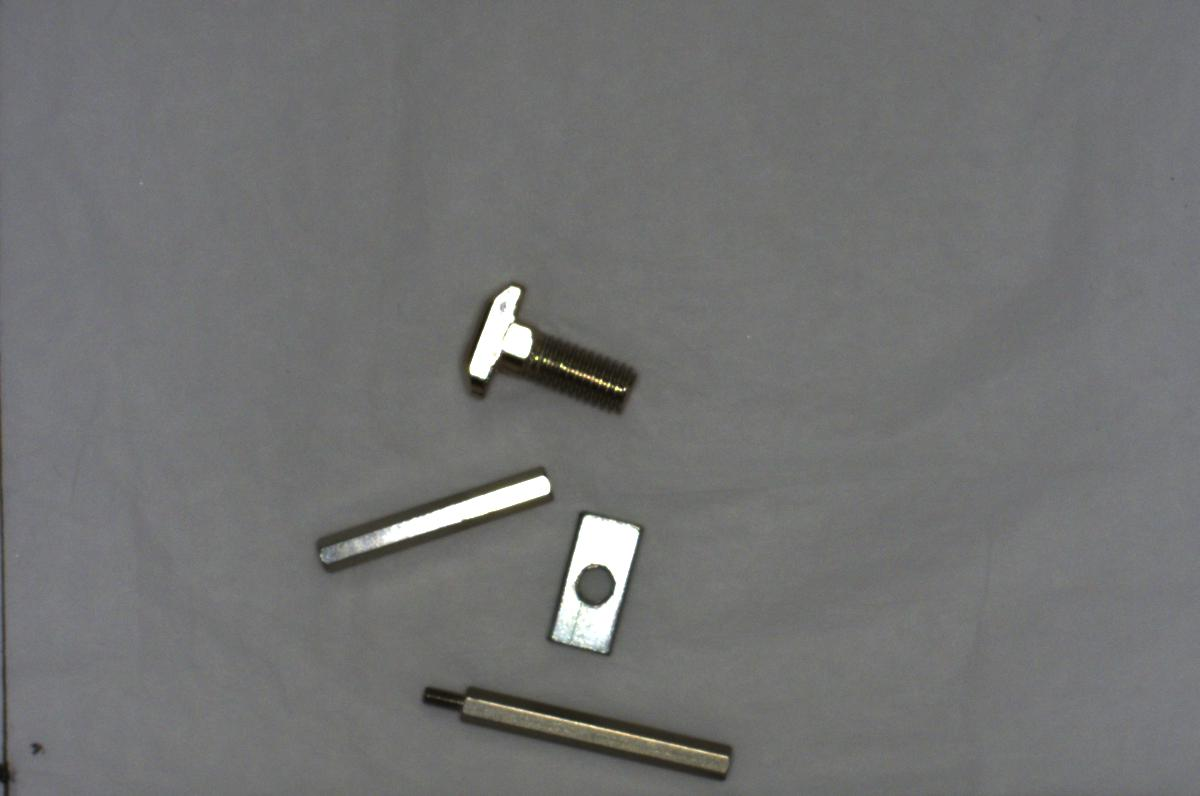Double hexagonal column: (304, 466, 553, 572)
Hexagonal steel column: (415, 676, 742, 787)
Rectangular nut: (534, 500, 651, 663)
T-shaped screw: (461, 274, 641, 412)
